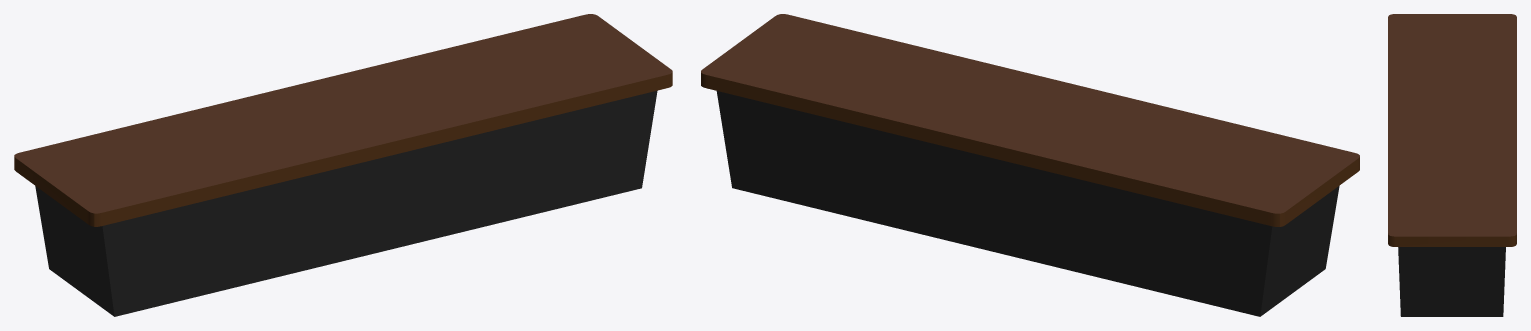
File: mejaplayerfix.fbx
The picture shows the model from 3 angles, left to right: view 1: azimuth 30°, elevation 25°; view 2: azimuth 150°, elevation 25°; view 3: azimuth 270°, elevation 25°; orthographic projection. The views are drawn at different scales.
Parts seen in each view (by area): view 1: meja mc; view 2: meja mc; view 3: meja mc.
Part boxes in pixels (<box>): meja mc: <box>14,14,672,316</box>; meja mc: <box>701,14,1359,316</box>; meja mc: <box>1388,14,1516,316</box>.
Bounding box in the file's own units: 1748 × 330 × 427.
